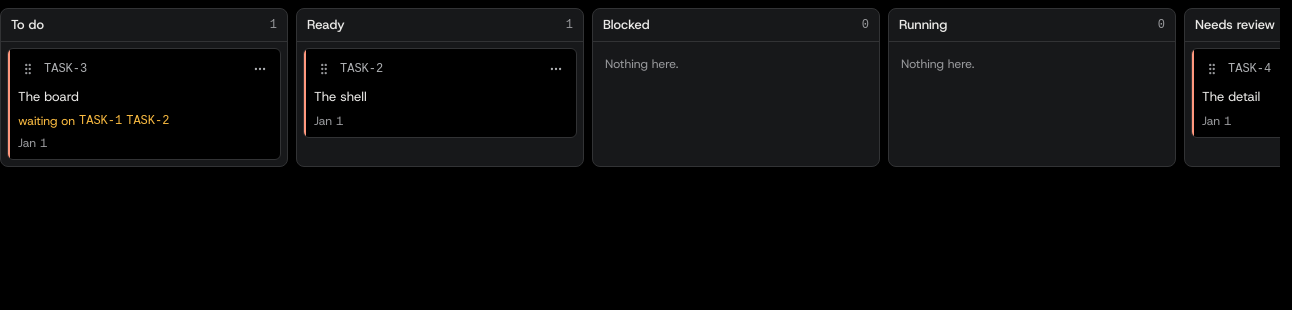
Test: the board › refuses an illegal move by naming the keys, and sends nothing
Press the mouse on the button named "Move TASK-3" at coordinates (260, 69), box [248,57,272,81]
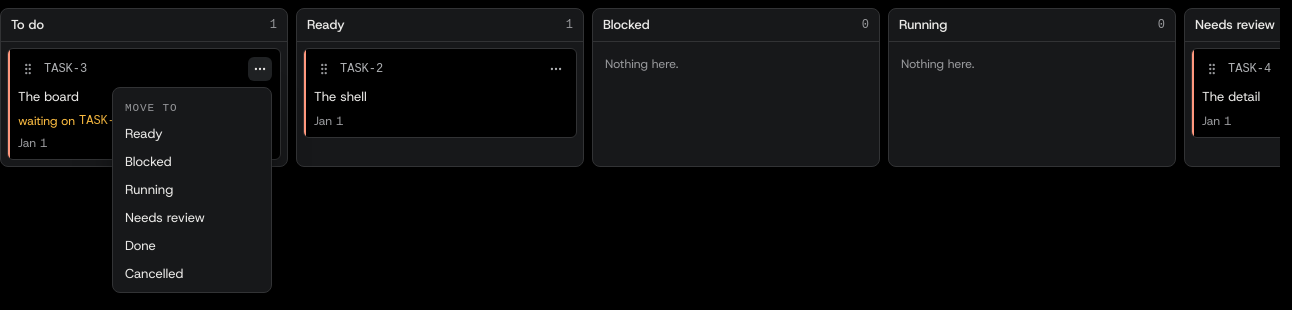
Expected: the menu item "Ready" is shown
Click the menu item "Ready". click: coordinates (144, 134)
box: [125,125,163,142]
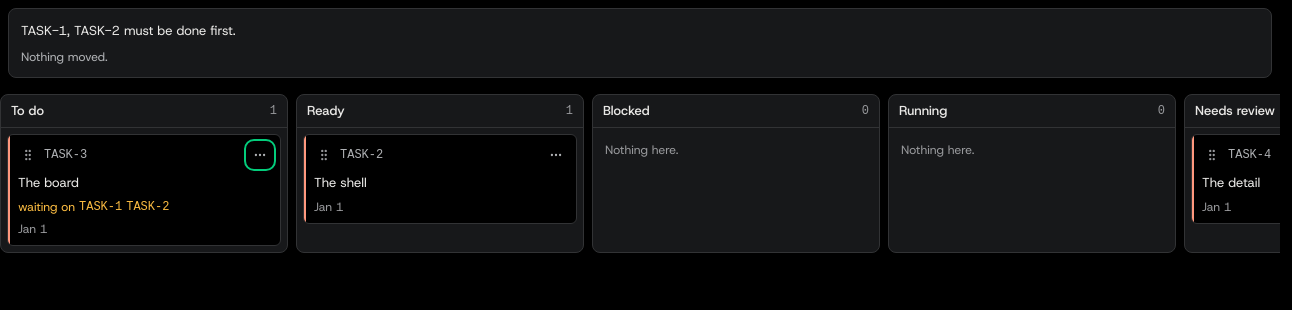
Expected: the text "TASK-1, TASK-2 must be done first." is shown, [21,22,236,39]
